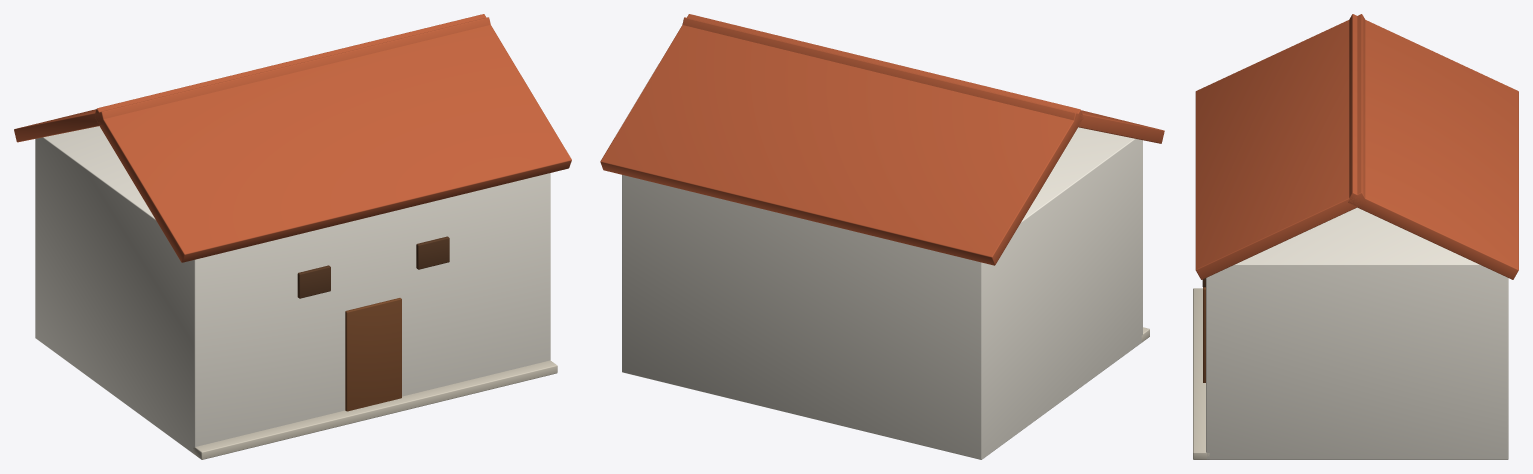
The model's file is rg_classico_2.glb.
3 renders of one model, left to right at view 1: azimuth 30°, elevation 25°; view 2: azimuth 150°, elevation 25°; view 3: azimuth 270°, elevation 25°, orthographic. The views are drawn at different scales.
Visible parts, largest first — view 1: rg_classico_2; view 2: rg_classico_2; view 3: rg_classico_2.
Part boxes in pixels (bbox=[...]): rg_classico_2: bbox=[14, 14, 571, 459]; rg_classico_2: bbox=[600, 14, 1164, 459]; rg_classico_2: bbox=[1193, 14, 1518, 459].
Size of the model in its own units: 9.8 by 7.02 by 7.54.
